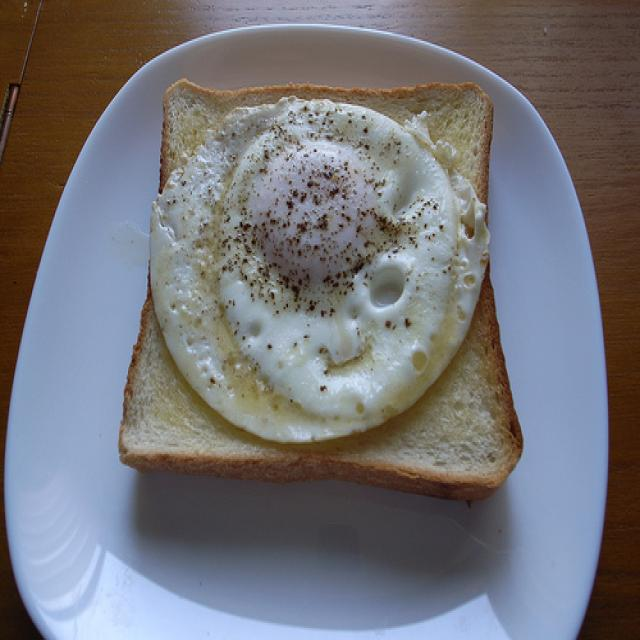面包点心: (96, 0, 632, 640)
